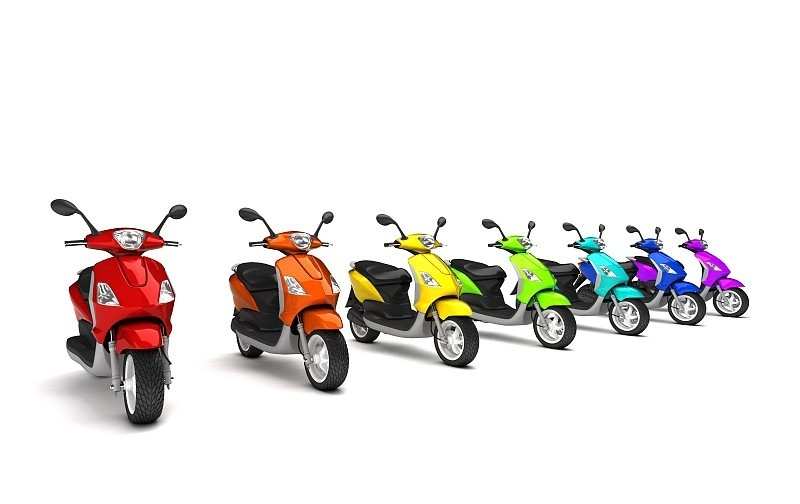non-vehicle: (58, 200, 185, 418), (225, 209, 351, 385), (348, 212, 476, 360), (457, 219, 574, 346), (550, 216, 643, 335), (624, 219, 701, 320), (675, 221, 743, 314)
